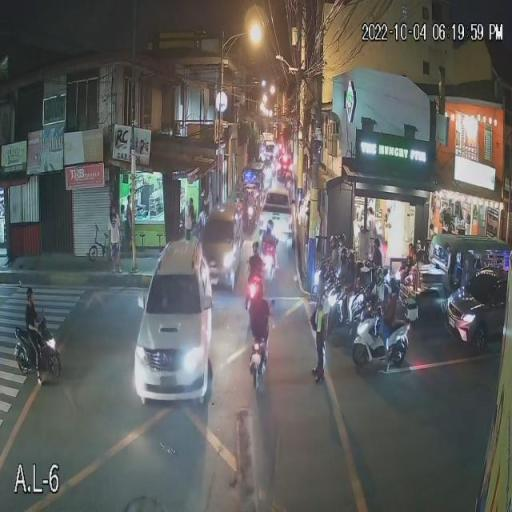helmet: (14, 328, 62, 378), (248, 277, 264, 301), (387, 275, 399, 294), (376, 266, 384, 285), (266, 218, 276, 232), (329, 234, 338, 248), (251, 241, 260, 255), (340, 248, 348, 261), (338, 233, 346, 246), (349, 252, 357, 264)
motorcycle: (352, 314, 412, 366), (248, 336, 271, 390), (325, 281, 349, 320), (310, 261, 332, 298), (261, 245, 279, 280), (348, 289, 366, 323), (338, 262, 348, 284)
rider: (24, 303, 44, 386), (247, 298, 272, 344), (382, 297, 396, 373), (262, 228, 278, 266), (372, 282, 385, 311), (328, 246, 338, 276), (248, 258, 263, 276), (348, 263, 357, 288), (338, 246, 342, 275)
